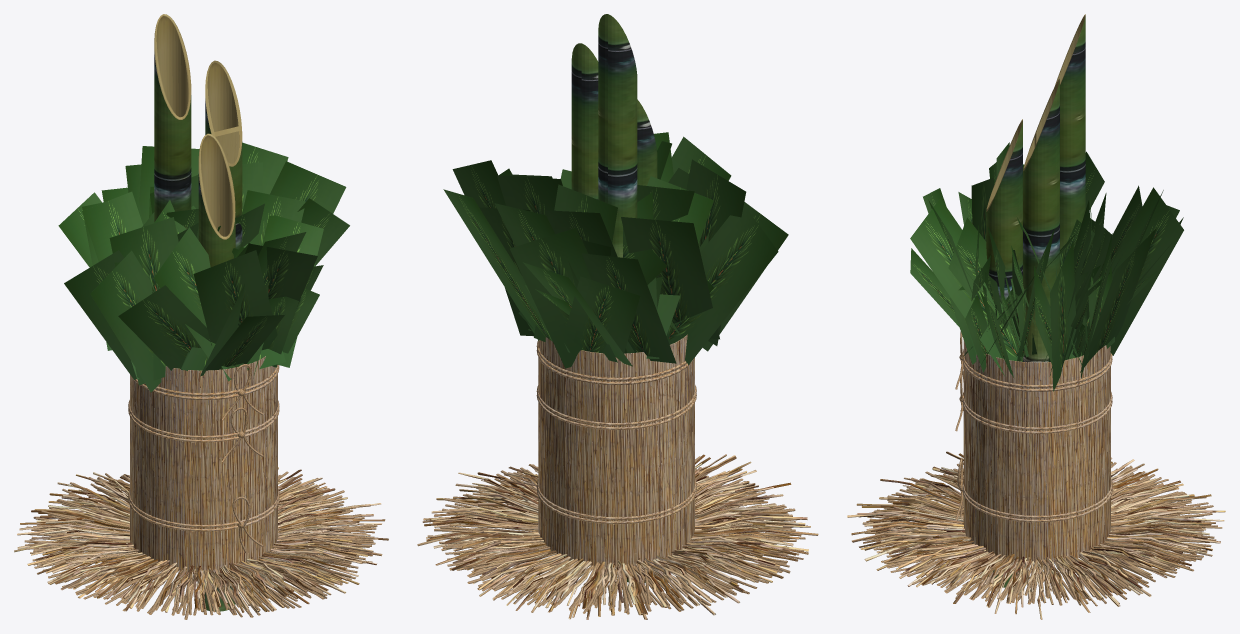
File: Kadomatsu-a.fbx
3 views of the same model, side by side, from view 1: azimuth 30°, elevation 25°; view 2: azimuth 150°, elevation 25°; view 3: azimuth 270°, elevation 25° (orthographic). The views are drawn at different scales.
Parts seen in each view (by area): view 1: pine.110, Cylinder.001, BezierCurve.009, Cylinder.005, Cylinder, Cylinder.003, Cylinder.002, BezierCircle.001, BezierCircle.002, BezierCircle; view 2: pine.110, Cylinder.001, BezierCurve.009, Cylinder.005, Cylinder, Cylinder.002, Cylinder.003, BezierCircle.001, BezierCircle.002, BezierCircle; view 3: pine.110, Cylinder.001, BezierCurve.009, Cylinder.005, Cylinder.002, Cylinder, Cylinder.003, BezierCircle.002, BezierCircle, BezierCircle.001.
Boxes of the visible parts, x1,y1,x2,y2 form: pine.110: (58,142,349,392); Cylinder.001: (130,356,277,572); BezierCurve.009: (14,467,388,613); Cylinder.005: (24,471,377,619); Cylinder: (154,14,191,228); Cylinder.003: (198,133,235,611); Cylinder.002: (205,60,242,249); BezierCircle.001: (128,400,279,442); BezierCircle.002: (128,489,279,531); BezierCircle: (131,365,279,399); pine.110: (443,132,788,368); Cylinder.001: (538,334,694,567); BezierCurve.009: (417,454,818,619); Cylinder.005: (427,464,805,614); Cylinder: (598,14,637,257); Cylinder.002: (571,43,598,199); Cylinder.003: (626,99,657,582); BezierCircle.001: (536,385,696,429); BezierCircle.002: (536,479,696,524); BezierCircle: (536,340,694,384); pine.110: (910,142,1183,391); Cylinder.001: (963,340,1110,562); BezierCurve.009: (847,451,1225,619); Cylinder.005: (862,462,1217,607); Cylinder.002: (1023,78,1059,362); Cylinder: (1055,14,1085,359); Cylinder.003: (986,119,1022,587); BezierCircle.002: (962,480,1112,522); BezierCircle: (962,352,1112,391); BezierCircle.001: (962,392,1112,433).
Size of the model in its own units: 104 by 168 by 103.
Materials: 4 (4 with a texture image).
